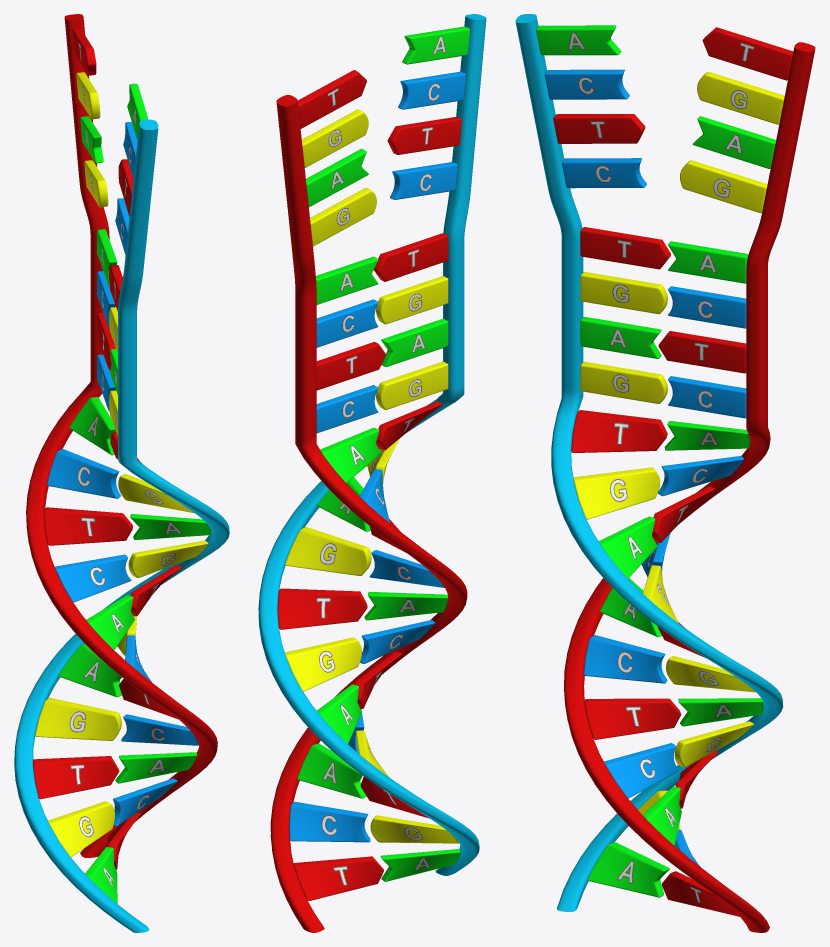
The model's file is doublehelix.glb.
3 renders of one model, left to right at view 1: azimuth 30°, elevation 25°; view 2: azimuth 150°, elevation 25°; view 3: azimuth 270°, elevation 25°, orthographic. The views are drawn at different scales.
Parts seen in each view (by area): view 1: Seker_Fosfat_Sol012_07 - Default_0, Seker_Fosfat_Sol012_08 - Default_0, Seker_Fosfat_Sol012_03 - Default_0; view 2: Seker_Fosfat_Sol012_07 - Default_0, Seker_Fosfat_Sol012_03 - Default_0, Seker_Fosfat_Sol012_08 - Default_0; view 3: Seker_Fosfat_Sol012_07 - Default_0, Seker_Fosfat_Sol012_08 - Default_0, Seker_Fosfat_Sol012_03 - Default_0.
Boxes of the visible parts, bbox=[...] form: Seker_Fosfat_Sol012_07 - Default_0: bbox=[33, 28, 211, 903]; Seker_Fosfat_Sol012_08 - Default_0: bbox=[14, 119, 229, 932]; Seker_Fosfat_Sol012_03 - Default_0: bbox=[26, 14, 217, 857]; Seker_Fosfat_Sol012_07 - Default_0: bbox=[277, 26, 469, 900]; Seker_Fosfat_Sol012_03 - Default_0: bbox=[270, 95, 467, 932]; Seker_Fosfat_Sol012_08 - Default_0: bbox=[258, 14, 486, 875]; Seker_Fosfat_Sol012_07 - Default_0: bbox=[536, 25, 793, 916]; Seker_Fosfat_Sol012_08 - Default_0: bbox=[515, 14, 783, 911]; Seker_Fosfat_Sol012_03 - Default_0: bbox=[564, 42, 815, 932].
Bounding box in the file's own units: 0.117 × 0.4949 × 0.1513.
Materials: 3 (1 with a texture image).
